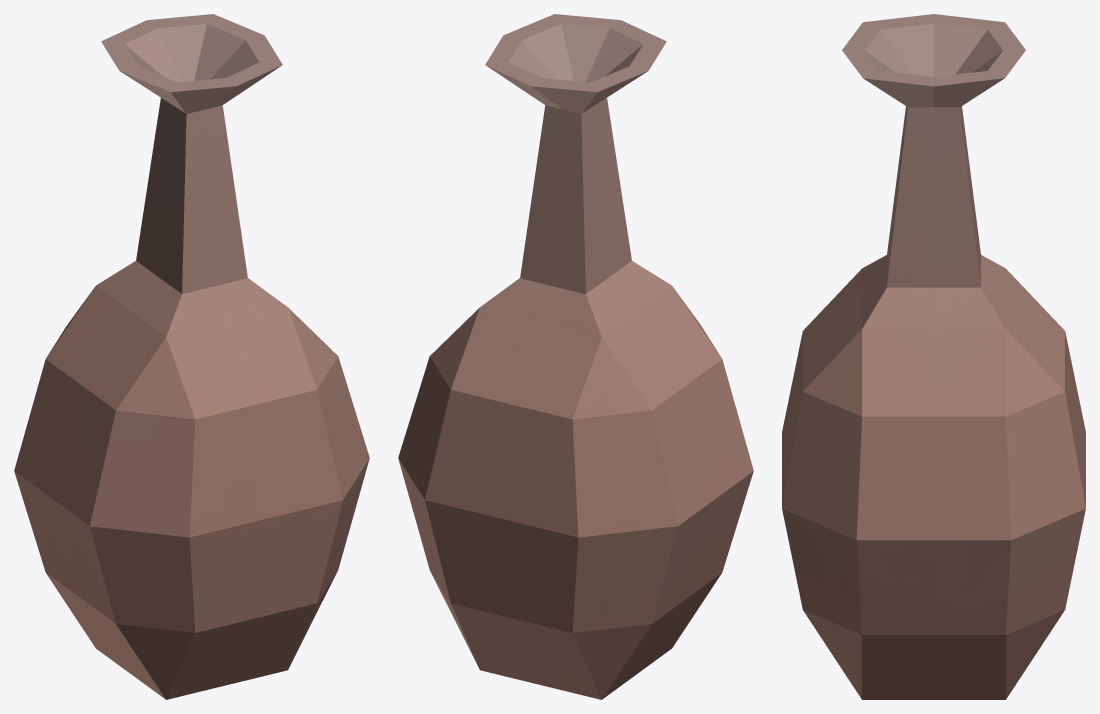
Rendered from Pottery2.fbx.
3 views of the same model, side by side, from view 1: azimuth 30°, elevation 25°; view 2: azimuth 150°, elevation 25°; view 3: azimuth 270°, elevation 25° (orthographic). The views are drawn at different scales.
Parts seen in each view (by area): view 1: 陶瓷.004; view 2: 陶瓷.004; view 3: 陶瓷.004.
Part boxes in pixels (left/top/right/bottom): 陶瓷.004: left=14, top=14, right=369, bottom=699; 陶瓷.004: left=398, top=14, right=753, bottom=699; 陶瓷.004: left=782, top=14, right=1085, bottom=699.
Size of the model in its own units: 6.29 by 13.01 by 5.78.
